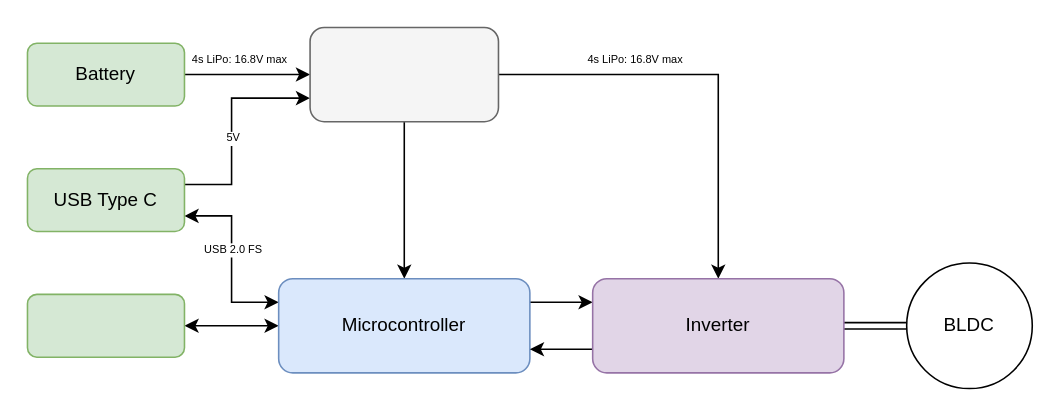
The diagram is 1060 pixels wide and 416 high, and some of its shapes have lost their labels. Each missing label, with the box of its shape:
CAN: (26, 293, 184, 357)
Power Supply: (309, 26, 498, 122)
